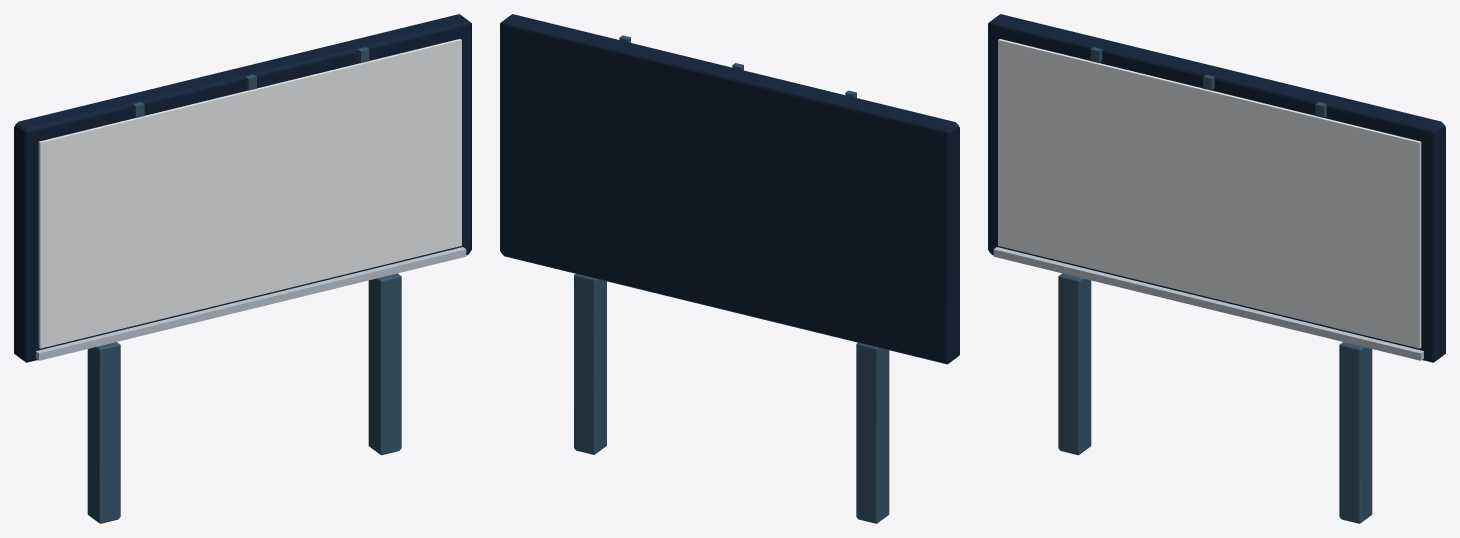
File: CM_Prop_AdBillboard.fbx
3 views of the same model, side by side, from view 1: azimuth 30°, elevation 25°; view 2: azimuth 150°, elevation 25°; view 3: azimuth 330°, elevation 25° (orthographic).
Parts seen in each view (by area): view 1: Face, Body; view 2: Body; view 3: Face, Body.
Part boxes in pixels (x1,y1,x2,y2): Face: (38, 39, 461, 348); Body: (14, 14, 471, 523); Body: (500, 14, 959, 523); Face: (998, 39, 1421, 348); Body: (988, 14, 1445, 523).
Size of the model in its own units: 16 by 1 by 14.
Materials: 1 (1 with a texture image).
